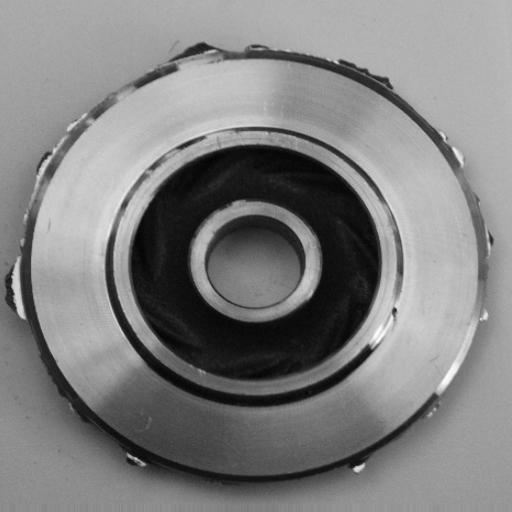casting_with_burr: (3, 36, 496, 484)
scratch: (107, 138, 183, 242), (359, 291, 414, 359), (188, 112, 283, 150)
